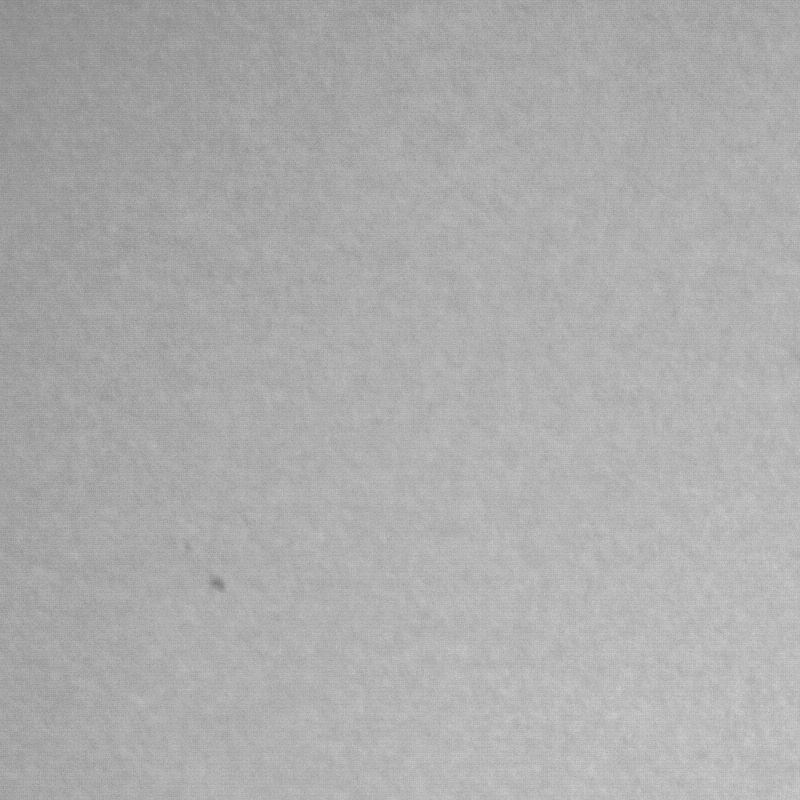defect: (180, 544, 234, 595)
